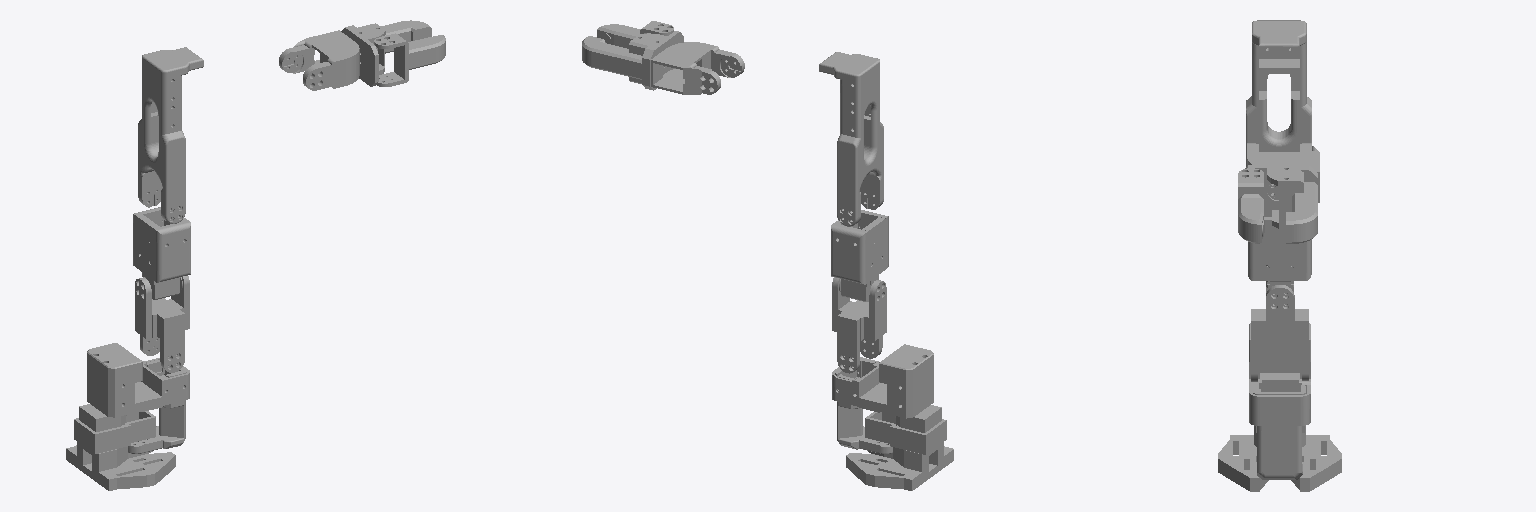
robot.urdf — arm_assembly:
<?xml version="1.0" ?>
<robot name="arm_assembly" xmlns:xacro="http://www.ros.org/wiki/xacro">



<link name="base_footprint"/>

<link name="base_link">
  <inertial>
    <origin xyz="0.0295624 0.00899979 0.0171489" rpy="0 0 0"/>
    <mass value="0.143802"/>
    <inertia ixx="0.000149425" iyy="0.000133638" izz="0.000153291" ixy="1.57982e-10" iyz="1.26386e-09" ixz="2.51299e-05"/>
  </inertial>
  <visual>
    <origin xyz="0 0 0" rpy="0 0 0"/>
    <geometry>
      <mesh filename="../meshes/base_link.stl" scale="0.001 0.001 0.001"/>
    </geometry>
    <material name="silver">
      <color rgba="0.700 0.700 0.700 1.000"/>
    </material>
  </visual>
  <collision>
    <origin xyz="0 0 0" rpy="0 0 0"/>
    <geometry>
      <mesh filename="../meshes/base_link.stl" scale="0.001 0.001 0.001"/>
    </geometry>
  </collision>
</link>

<link name="p02_new_base_neck">
  <inertial>
    <origin xyz="0.0321934 -0.000130404 0.0300194" rpy="0 0 0"/>
    <mass value="0.081677"/>
    <inertia ixx="5.67773e-05" iyy="6.24904e-05" izz="2.50404e-05" ixy="2.06956e-08" iyz="4.60517e-07" ixz="-5.13757e-06"/>
  </inertial>
  <visual>
    <origin xyz="0.048 -0.023 -0.0088" rpy="-1.5708 -4.43615e-29 -3.14159"/>
    <geometry>
      <mesh filename="../meshes/p02_new_base_neck.stl" scale="0.001 0.001 0.001"/>
    </geometry>
    <material name="silver">
      <color rgba="0.700 0.700 0.700 1.000"/>
    </material>
  </visual>
  <collision>
    <origin xyz="0.048 -0.023 -0.0088" rpy="-1.5708 -4.43615e-29 -3.14159"/>
    <geometry>
      <mesh filename="../meshes/p02_new_base_neck.stl" scale="0.001 0.001 0.001"/>
    </geometry>
  </collision>
</link>

<link name="servo_motor_initial_draft">
  <inertial>
    <origin xyz="0 0 0" rpy="0 0 0"/>
    <mass value="0.06"/>
    <inertia ixx="8.1e-06" iyy="1.41e-05" izz="1e-05" ixy="0" iyz="0" ixz="0"/>
  </inertial>
  <visual>
    <origin xyz="0 0 0" rpy="0 0 -1.5708"/>
    <geometry>
      <mesh filename="../meshes/servo_motor_initial_draft.stl" scale="0.001 0.001 0.001"/>
    </geometry>
    <material name="silver">
      <color rgba="0.700 0.700 0.700 1.000"/>
    </material>
  </visual>
  <collision>
    <origin xyz="0 0 0" rpy="0 0 -1.5708"/>
    <geometry>
      <mesh filename="../meshes/servo_motor_initial_draft.stl" scale="0.001 0.001 0.001"/>
    </geometry>
  </collision>
</link>

<link name="p10_new_elbow">
  <inertial>
    <origin xyz="0.00142923 -0.0185999 0.0808094" rpy="0 0 0"/>
    <mass value="0.153802"/>
    <inertia ixx="0.000411736" iyy="0.00037478" izz="6.56077e-05" ixy="-2.14855e-08" iyz="3.15964e-10" ixz="-1.7855e-05"/>
  </inertial>
  <visual>
    <origin xyz="-0.012 0.03 -0.012" rpy="1.5708 1.5708 0"/>
    <geometry>
      <mesh filename="../meshes/p10_new_elbow.stl" scale="0.001 0.001 0.001"/>
    </geometry>
    <material name="silver">
      <color rgba="0.700 0.700 0.700 1.000"/>
    </material>
  </visual>
  <collision>
    <origin xyz="-0.012 0.03 -0.012" rpy="1.5708 1.5708 0"/>
    <geometry>
      <mesh filename="../meshes/p10_new_elbow.stl" scale="0.001 0.001 0.001"/>
    </geometry>
  </collision>
</link>

<link name="servo_motor_initial_draft_2">
  <inertial>
    <origin xyz="0 0 0" rpy="0 0 0"/>
    <mass value="0.06"/>
    <inertia ixx="8.1e-06" iyy="1.41e-05" izz="1e-05" ixy="0" iyz="0" ixz="0"/>
  </inertial>
  <visual>
    <origin xyz="0 0 0" rpy="1.5708 1.38778e-17 -3.15544e-30"/>
    <geometry>
      <mesh filename="../meshes/servo_motor_initial_draft_2.stl" scale="0.001 0.001 0.001"/>
    </geometry>
    <material name="silver">
      <color rgba="0.700 0.700 0.700 1.000"/>
    </material>
  </visual>
  <collision>
    <origin xyz="0 0 0" rpy="1.5708 1.38778e-17 -3.15544e-30"/>
    <geometry>
      <mesh filename="../meshes/servo_motor_initial_draft_2.stl" scale="0.001 0.001 0.001"/>
    </geometry>
  </collision>
</link>

<link name="new_elbow_v1">
  <inertial>
    <origin xyz="0.0562011 -0.0187337 -0.000456186" rpy="0 0 0"/>
    <mass value="0.114345"/>
    <inertia ixx="4.90344e-05" iyy="0.000113108" izz="0.000151253" ixy="8.42044e-08" iyz="2.6383e-08" ixz="2.40227e-06"/>
  </inertial>
  <visual>
    <origin xyz="-0.012 -0.0672 -0.012" rpy="1.5708 -2.15106e-16 3.14159"/>
    <geometry>
      <mesh filename="../meshes/new_elbow_v1.stl" scale="0.001 0.001 0.001"/>
    </geometry>
    <material name="silver">
      <color rgba="0.700 0.700 0.700 1.000"/>
    </material>
  </visual>
  <collision>
    <origin xyz="-0.012 -0.0672 -0.012" rpy="1.5708 -2.15106e-16 3.14159"/>
    <geometry>
      <mesh filename="../meshes/new_elbow_v1.stl" scale="0.001 0.001 0.001"/>
    </geometry>
  </collision>
</link>

<link name="servo_motor_initial_draft_3">
  <inertial>
    <origin xyz="0 0 0" rpy="0 0 0"/>
    <mass value="0.06"/>
    <inertia ixx="8.1e-06" iyy="1.41e-05" izz="1e-05" ixy="0" iyz="0" ixz="0"/>
  </inertial>
  <visual>
    <origin xyz="0 0 0" rpy="-1.5708 -1.5708 0"/>
    <geometry>
      <mesh filename="../meshes/servo_motor_initial_draft_3.stl" scale="0.001 0.001 0.001"/>
    </geometry>
    <material name="silver">
      <color rgba="0.700 0.700 0.700 1.000"/>
    </material>
  </visual>
  <collision>
    <origin xyz="0 0 0" rpy="-1.5708 -1.5708 0"/>
    <geometry>
      <mesh filename="../meshes/servo_motor_initial_draft_3.stl" scale="0.001 0.001 0.001"/>
    </geometry>
  </collision>
</link>

<link name="p16_wrist_prototype">
  <inertial>
    <origin xyz="0.0298028 -0.020642 -4.98e-07" rpy="0 0 0"/>
    <mass value="0.0517943"/>
    <inertia ixx="2.70334e-05" iyy="2.13042e-05" izz="3.86155e-05" ixy="-7.78851e-08" iyz="0" ixz="0"/>
  </inertial>
  <visual>
    <origin xyz="-0.012 0.0155 -0.015" rpy="1.31839e-16 1.46349e-15 -1.5708"/>
    <geometry>
      <mesh filename="../meshes/p16_wrist_prototype.stl" scale="0.001 0.001 0.001"/>
    </geometry>
    <material name="silver">
      <color rgba="0.700 0.700 0.700 1.000"/>
    </material>
  </visual>
  <collision>
    <origin xyz="-0.012 0.0155 -0.015" rpy="1.31839e-16 1.46349e-15 -1.5708"/>
    <geometry>
      <mesh filename="../meshes/p16_wrist_prototype.stl" scale="0.001 0.001 0.001"/>
    </geometry>
  </collision>
</link>

<link name="servo_motor_initial_draft_4">
  <inertial>
    <origin xyz="0 0 0" rpy="0 0 0"/>
    <mass value="0.06"/>
    <inertia ixx="8.1e-06" iyy="1.41e-05" izz="1e-05" ixy="0" iyz="0" ixz="0"/>
  </inertial>
  <visual>
    <origin xyz="0 0 0" rpy="1.5708 1.5708 0"/>
    <geometry>
      <mesh filename="../meshes/servo_motor_initial_draft_4.stl" scale="0.001 0.001 0.001"/>
    </geometry>
    <material name="silver">
      <color rgba="0.700 0.700 0.700 1.000"/>
    </material>
  </visual>
  <collision>
    <origin xyz="0 0 0" rpy="1.5708 1.5708 0"/>
    <geometry>
      <mesh filename="../meshes/servo_motor_initial_draft_4.stl" scale="0.001 0.001 0.001"/>
    </geometry>
  </collision>
</link>

<link name="p17_end_effector">
  <inertial>
    <origin xyz="0.0352768 0.0155195 -0.000387812" rpy="0 0 0"/>
    <mass value="0.0827017"/>
    <inertia ixx="2.58877e-05" iyy="6.89744e-05" izz="7.52479e-05" ixy="-1.12203e-05" iyz="2.11696e-07" ixz="1.58772e-07"/>
  </inertial>
  <visual>
    <origin xyz="0.003 0.047 -0.023" rpy="1.5708 -3.1702e-15 1.5708"/>
    <geometry>
      <mesh filename="../meshes/p17_end_effector.stl" scale="0.001 0.001 0.001"/>
    </geometry>
    <material name="silver">
      <color rgba="0.700 0.700 0.700 1.000"/>
    </material>
  </visual>
  <collision>
    <origin xyz="0.003 0.047 -0.023" rpy="1.5708 -3.1702e-15 1.5708"/>
    <geometry>
      <mesh filename="../meshes/p17_end_effector.stl" scale="0.001 0.001 0.001"/>
    </geometry>
  </collision>
</link>

<link name="servo_motor_initial_draft_5">
  <inertial>
    <origin xyz="0 0 0" rpy="0 0 0"/>
    <mass value="0.06"/>
    <inertia ixx="8.1e-06" iyy="1.41e-05" izz="1e-05" ixy="0" iyz="0" ixz="0"/>
  </inertial>
  <visual>
    <origin xyz="0 0 0" rpy="-3.14159 -1.5708 0"/>
    <geometry>
      <mesh filename="../meshes/servo_motor_initial_draft_5.stl" scale="0.001 0.001 0.001"/>
    </geometry>
    <material name="silver">
      <color rgba="0.700 0.700 0.700 1.000"/>
    </material>
  </visual>
  <collision>
    <origin xyz="0 0 0" rpy="-3.14159 -1.5708 0"/>
    <geometry>
      <mesh filename="../meshes/servo_motor_initial_draft_5.stl" scale="0.001 0.001 0.001"/>
    </geometry>
  </collision>
</link>

<link name="p18_end_effector_thumb">
  <inertial>
    <origin xyz="0.0352701 0.000338848 -0.0185005" rpy="0 0 0"/>
    <mass value="0.0380563"/>
    <inertia ixx="5.54343e-06" iyy="1.81733e-05" izz="1.54666e-05" ixy="-3.95271e-07" iyz="-0" ixz="0"/>
  </inertial>
  <visual>
    <origin xyz="0.186 -0.011 0.0055" rpy="-1.5708 -3.81639e-16 2.86336e-16"/>
    <geometry>
      <mesh filename="../meshes/p18_end_effector_thumb.stl" scale="0.001 0.001 0.001"/>
    </geometry>
    <material name="silver">
      <color rgba="0.700 0.700 0.700 1.000"/>
    </material>
  </visual>
  <collision>
    <origin xyz="0.186 -0.011 0.0055" rpy="-1.5708 -3.81639e-16 2.86336e-16"/>
    <geometry>
      <mesh filename="../meshes/p18_end_effector_thumb.stl" scale="0.001 0.001 0.001"/>
    </geometry>
  </collision>
</link>

<link name="servo_motor_initial_draft_6">
  <inertial>
    <origin xyz="0 0 0" rpy="0 0 0"/>
    <mass value="0.06"/>
    <inertia ixx="8.1e-06" iyy="1.41e-05" izz="1e-05" ixy="0" iyz="0" ixz="0"/>
  </inertial>
  <visual>
    <origin xyz="0 0 0" rpy="-2.86489e-15 4.16334e-17 -3.14159"/>
    <geometry>
      <mesh filename="../meshes/servo_motor_initial_draft_6.stl" scale="0.001 0.001 0.001"/>
    </geometry>
    <material name="silver">
      <color rgba="0.700 0.700 0.700 1.000"/>
    </material>
  </visual>
  <collision>
    <origin xyz="0 0 0" rpy="-2.86489e-15 4.16334e-17 -3.14159"/>
    <geometry>
      <mesh filename="../meshes/servo_motor_initial_draft_6.stl" scale="0.001 0.001 0.001"/>
    </geometry>
  </collision>
</link>

<link name="servo_motor_initial_draft_7">
  <inertial>
    <origin xyz="0 0 0" rpy="0 0 0"/>
    <mass value="0.06"/>
    <inertia ixx="8.1e-06" iyy="1.41e-05" izz="1e-05" ixy="0" iyz="0" ixz="0"/>
  </inertial>
  <visual>
    <origin xyz="0 0 0" rpy="1.5708 -2.34172e-57 1.58377e-16"/>
    <geometry>
      <mesh filename="../meshes/servo_motor_initial_draft_7.stl" scale="0.001 0.001 0.001"/>
    </geometry>
    <material name="silver">
      <color rgba="0.700 0.700 0.700 1.000"/>
    </material>
  </visual>
  <collision>
    <origin xyz="0 0 0" rpy="1.5708 -2.34172e-57 1.58377e-16"/>
    <geometry>
      <mesh filename="../meshes/servo_motor_initial_draft_7.stl" scale="0.001 0.001 0.001"/>
    </geometry>
  </collision>
</link>

<link name="servo_motor_initial_draft_8">
  <inertial>
    <origin xyz="0.033 -0.0126 0.035" rpy="0 0 0"/>
    <mass value="0.06"/>
    <inertia ixx="8.1e-06" iyy="1.41e-05" izz="1e-05" ixy="0" iyz="0" ixz="0"/>
  </inertial>
  <visual>
    <origin xyz="0.033 -0.0126 0.035" rpy="-1.5708 1.22465e-16 1.5708"/>
    <geometry>
      <mesh filename="../meshes/servo_motor_initial_draft_8.stl" scale="0.001 0.001 0.001"/>
    </geometry>
    <material name="silver">
      <color rgba="0.700 0.700 0.700 1.000"/>
    </material>
  </visual>
  <collision>
    <origin xyz="0.033 -0.0126 0.035" rpy="-1.5708 1.22465e-16 1.5708"/>
    <geometry>
      <mesh filename="../meshes/servo_motor_initial_draft_8.stl" scale="0.001 0.001 0.001"/>
    </geometry>
  </collision>
</link>

<link name="p01_base_binder_strip">
  <inertial>
    <origin xyz="0.032037 -0.0172498 0.011" rpy="0 0 0"/>
    <mass value="0.0220997"/>
    <inertia ixx="6.21738e-06" iyy="1.51901e-05" izz="1.96248e-05" ixy="0" iyz="0" ixz="-0"/>
  </inertial>
  <visual>
    <origin xyz="0 0 0" rpy="2.77556e-16 2.58075e-31 -1.5708"/>
    <geometry>
      <mesh filename="../meshes/p01_base_binder_strip.stl" scale="0.001 0.001 0.001"/>
    </geometry>
    <material name="silver">
      <color rgba="0.700 0.700 0.700 1.000"/>
    </material>
  </visual>
  <collision>
    <origin xyz="0 0 0" rpy="2.77556e-16 2.58075e-31 -1.5708"/>
    <geometry>
      <mesh filename="../meshes/p01_base_binder_strip.stl" scale="0.001 0.001 0.001"/>
    </geometry>
  </collision>
</link>

<link name="servo_motor_initial_draft_9">
  <inertial>
    <origin xyz="0 0 0" rpy="0 0 0"/>
    <mass value="0.06"/>
    <inertia ixx="8.1e-06" iyy="1.41e-05" izz="1e-05" ixy="0" iyz="0" ixz="0"/>
  </inertial>
  <visual>
    <origin xyz="0 0 0" rpy="-1.5708 -1.5708 0"/>
    <geometry>
      <mesh filename="../meshes/servo_motor_initial_draft_9.stl" scale="0.001 0.001 0.001"/>
    </geometry>
    <material name="silver">
      <color rgba="0.700 0.700 0.700 1.000"/>
    </material>
  </visual>
  <collision>
    <origin xyz="0 0 0" rpy="-1.5708 -1.5708 0"/>
    <geometry>
      <mesh filename="../meshes/servo_motor_initial_draft_9.stl" scale="0.001 0.001 0.001"/>
    </geometry>
  </collision>
</link>

<link name="cradle">
  <inertial>
    <origin xyz="-0.0307609 0.0320269 0.0150273" rpy="0 0 0"/>
    <mass value="0.0909176"/>
    <inertia ixx="4.04077e-05" iyy="8.26561e-05" izz="9.50963e-05" ixy="3.25759e-07" iyz="3.23863e-08" ixz="9.1579e-06"/>
  </inertial>
  <visual>
    <origin xyz="0 0 0" rpy="-1.6491e-59 7.00649e-45 -1.5708"/>
    <geometry>
      <mesh filename="../meshes/cradle.stl" scale="0.001 0.001 0.001"/>
    </geometry>
    <material name="silver">
      <color rgba="0.700 0.700 0.700 1.000"/>
    </material>
  </visual>
  <collision>
    <origin xyz="0 0 0" rpy="-1.6491e-59 7.00649e-45 -1.5708"/>
    <geometry>
      <mesh filename="../meshes/cradle.stl" scale="0.001 0.001 0.001"/>
    </geometry>
  </collision>
</link>

<link name="roof">
  <inertial>
    <origin xyz="-0.0417551 0.04067 -0.0089018" rpy="0 0 0"/>
    <mass value="0.0389803"/>
    <inertia ixx="9.1075e-06" iyy="5.41878e-06" izz="1.19861e-05" ixy="-0" iyz="0" ixz="5.07122e-07"/>
  </inertial>
  <visual>
    <origin xyz="0 0 0" rpy="-3.14159 -7.00649e-45 1.5708"/>
    <geometry>
      <mesh filename="../meshes/roof.stl" scale="0.001 0.001 0.001"/>
    </geometry>
    <material name="silver">
      <color rgba="0.700 0.700 0.700 1.000"/>
    </material>
  </visual>
  <collision>
    <origin xyz="0 0 0" rpy="-3.14159 -7.00649e-45 1.5708"/>
    <geometry>
      <mesh filename="../meshes/roof.stl" scale="0.001 0.001 0.001"/>
    </geometry>
  </collision>
</link>

<link name="p09_prototype_u_bridge">
  <inertial>
    <origin xyz="-0.0144979 0.0123775 0.0040405" rpy="0 0 0"/>
    <mass value="0.112544"/>
    <inertia ixx="5.93336e-05" iyy="4.23252e-05" izz="5.08833e-05" ixy="0" iyz="-7.72532e-08" ixz="-8.21506e-09"/>
  </inertial>
  <visual>
    <origin xyz="0 0 0" rpy="-1.5708 1.22465e-16 1.5708"/>
    <geometry>
      <mesh filename="../meshes/p09_prototype_u_bridge.stl" scale="0.001 0.001 0.001"/>
    </geometry>
    <material name="silver">
      <color rgba="0.700 0.700 0.700 1.000"/>
    </material>
  </visual>
  <collision>
    <origin xyz="0 0 0" rpy="-1.5708 1.22465e-16 1.5708"/>
    <geometry>
      <mesh filename="../meshes/p09_prototype_u_bridge.stl" scale="0.001 0.001 0.001"/>
    </geometry>
  </collision>
</link>

<link name="u_joint_box_servo_motor_initial_draft">
  <inertial>
    <origin xyz="0 0 0" rpy="0 0 0"/>
    <mass value="0.06"/>
    <inertia ixx="8.1e-06" iyy="1.41e-05" izz="1e-05" ixy="0" iyz="0" ixz="0"/>
  </inertial>
  <visual>
    <origin xyz="0 0 0" rpy="-1.5708 1.22465e-16 1.5708"/>
    <geometry>
      <box size="0.01 0.01 0.01"/>
    </geometry>
    <material name="silver">
      <color rgba="0.700 0.700 0.700 1.000"/>
    </material>
  </visual>
  <collision>
    <origin xyz="0 0 0" rpy="-1.5708 1.22465e-16 1.5708"/>
    <geometry>
      <box size="0.01 0.01 0.01"/>
    </geometry>
  </collision>
</link>

<link name="uj_yoke_in">
  <inertial>
    <origin xyz="0.000106363 -0.0191597 0.0226114" rpy="0 0 0"/>
    <mass value="0.0352571"/>
    <inertia ixx="1.43398e-05" iyy="9.14227e-06" izz="1.34222e-05" ixy="-2.08899e-09" iyz="-2.71263e-07" ixz="-2.75756e-08"/>
  </inertial>
  <visual>
    <origin xyz="0.026001 0.0064 0" rpy="1.5708 -5.25487e-46 0"/>
    <geometry>
      <mesh filename="../meshes/uj_yoke_in.stl" scale="0.001 0.001 0.001"/>
    </geometry>
    <material name="silver">
      <color rgba="0.700 0.700 0.700 1.000"/>
    </material>
  </visual>
  <collision>
    <origin xyz="0.026001 0.0064 0" rpy="1.5708 -5.25487e-46 0"/>
    <geometry>
      <mesh filename="../meshes/uj_yoke_in.stl" scale="0.001 0.001 0.001"/>
    </geometry>
  </collision>
</link>

<link name="uj_yoke_out">
  <inertial>
    <origin xyz="0.0190619 -0.000119863 -0.0262625" rpy="0 0 0"/>
    <mass value="0.0467085"/>
    <inertia ixx="1.28453e-05" iyy="1.80441e-05" izz="1.69499e-05" ixy="-2.58885e-09" iyz="-3.49243e-08" ixz="-3.22314e-07"/>
  </inertial>
  <visual>
    <origin xyz="0.0446 0.025 -0.075" rpy="1.5708 -5.25487e-46 0"/>
    <geometry>
      <mesh filename="../meshes/uj_yoke_out.stl" scale="0.001 0.001 0.001"/>
    </geometry>
    <material name="silver">
      <color rgba="0.700 0.700 0.700 1.000"/>
    </material>
  </visual>
  <collision>
    <origin xyz="0.0446 0.025 -0.075" rpy="1.5708 -5.25487e-46 0"/>
    <geometry>
      <mesh filename="../meshes/uj_yoke_out.stl" scale="0.001 0.001 0.001"/>
    </geometry>
  </collision>
</link>

<joint name="base_footprint_to_base_link" type="fixed">
  <origin xyz="0 0 0" rpy="0 0 0"/>
  <parent link="base_footprint"/>
  <child link="base_link"/>
</joint>

<joint name="revolute_5" type="revolute">
  <origin xyz="0.035 -0.0126 -0.004" rpy="0 0 0"/>
  <parent link="servo_motor_initial_draft"/>
  <child link="p02_new_base_neck"/>
  <axis xyz="0 0 -1"/>
  <limit upper="1.91986" lower="-1.91986" effort="100" velocity="100"/>
</joint>

<joint name="revolute_11" type="revolute">
  <origin xyz="0.012599 0.004 0.035" rpy="0 0 0"/>
  <parent link="servo_motor_initial_draft_2"/>
  <child link="p10_new_elbow"/>
  <axis xyz="0 1 0"/>
  <limit upper="1.5708" lower="-1.5708" effort="100" velocity="100"/>
</joint>

<joint name="revolute_12" type="revolute">
  <origin xyz="0.035 0.033 0.0126" rpy="0 0 0"/>
  <parent link="servo_motor_initial_draft_3"/>
  <child link="new_elbow_v1"/>
  <axis xyz="0 1 0"/>
  <limit upper="1.5708" lower="-0.523599" effort="100" velocity="100"/>
</joint>

<joint name="revolute_13" type="revolute">
  <origin xyz="0.035 0.004 -0.0126" rpy="0 0 0"/>
  <parent link="servo_motor_initial_draft_4"/>
  <child link="p16_wrist_prototype"/>
  <axis xyz="0 1 0"/>
  <limit upper="1.5708" lower="-1.5708" effort="100" velocity="100"/>
</joint>

<joint name="revolute_15" type="revolute">
  <origin xyz="0.033 -0.035 0.0126" rpy="0 0 0"/>
  <parent link="servo_motor_initial_draft_5"/>
  <child link="p17_end_effector"/>
  <axis xyz="1 0 0"/>
  <limit upper="1.5708" lower="-3.14159" effort="100" velocity="100"/>
</joint>

<joint name="revolute_16" type="revolute">
  <origin xyz="-0.0126 -0.035 0.033" rpy="0 0 0"/>
  <parent link="servo_motor_initial_draft_6"/>
  <child link="p18_end_effector_thumb"/>
  <axis xyz="0 0 1"/>
  <limit upper="0.296706" lower="-1.74533" effort="100" velocity="100"/>
</joint>

<joint name="revolute_17" type="revolute">
  <origin xyz="0.012599 0.004 0.035001" rpy="0 0 0"/>
  <parent link="servo_motor_initial_draft_7"/>
  <child link="uj_yoke_in"/>
  <axis xyz="0 1 0"/>
  <limit upper="1.5708" lower="-0.610865" effort="100" velocity="100"/>
</joint>

<joint name="revolute_18" type="revolute">
  <origin xyz="0 0 0" rpy="0 0 0"/>
  <parent link="uj_yoke_out"/>
  <child link="servo_motor_initial_draft_8"/>
  <axis xyz="-1 0 0"/>
  <limit upper="1.5708" lower="-1.5708" effort="100" velocity="100"/>
</joint>

<joint name="uj_yoke_in_to_uj_yoke_out" type="fixed">
  <origin xyz="-0.018599 -0.0186 0.075" rpy="0 0 0"/>
  <parent link="uj_yoke_in"/>
  <child link="uj_yoke_out"/>
</joint>

<joint name="p01_base_binder_strip_fixed" type="fixed">
  <origin xyz="0.000309 0.02652 0.03" rpy="0 0 0"/>
  <parent link="base_link"/>
  <child link="p01_base_binder_strip"/>
</joint>

<joint name="servo_motor_initial_draft_9_fixed" type="fixed">
  <origin xyz="-0.030879 -0.01417 0.0554" rpy="0 0 0"/>
  <parent link="p02_new_base_neck"/>
  <child link="servo_motor_initial_draft_9"/>
</joint>

<joint name="servo_motor_initial_draft_7_fixed" type="fixed">
  <origin xyz="0.0175 0.0151 0.056572" rpy="0 0 0"/>
  <parent link="p02_new_base_neck"/>
  <child link="servo_motor_initial_draft_7"/>
</joint>

<joint name="cradle_fixed" type="fixed">
  <origin xyz="0.0183 -0.031793 0.0462" rpy="0 0 0"/>
  <parent link="p02_new_base_neck"/>
  <child link="cradle"/>
</joint>

<joint name="roof_fixed" type="fixed">
  <origin xyz="0.0183 -0.04034 0.1012" rpy="0 0 0"/>
  <parent link="p02_new_base_neck"/>
  <child link="roof"/>
</joint>

<joint name="p09_prototype_u_bridge_fixed" type="fixed">
  <origin xyz="0.03305 -0.0128 0.041122" rpy="0 0 0"/>
  <parent link="servo_motor_initial_draft_8"/>
  <child link="p09_prototype_u_bridge"/>
</joint>

<joint name="servo_motor_initial_draft_2_fixed" type="fixed">
  <origin xyz="0.0055 0.0137 0.055395" rpy="0 0 0"/>
  <parent link="servo_motor_initial_draft_8"/>
  <child link="servo_motor_initial_draft_2"/>
</joint>

<joint name="u_joint_box_servo_motor_initial_draft_fixed" type="fixed">
  <origin xyz="0.03305 -0.0128 0.041122" rpy="0 0 0"/>
  <parent link="servo_motor_initial_draft_8"/>
  <child link="u_joint_box_servo_motor_initial_draft"/>
</joint>

<joint name="servo_motor_initial_draft_4_fixed" type="fixed">
  <origin xyz="0.099873 -0.00325 0.01755" rpy="0 0 0"/>
  <parent link="new_elbow_v1"/>
  <child link="servo_motor_initial_draft_4"/>
</joint>

<joint name="servo_motor_initial_draft_6_fixed" type="fixed">
  <origin xyz="0.0337 0.011728 -0.0149" rpy="0 0 0"/>
  <parent link="p17_end_effector"/>
  <child link="servo_motor_initial_draft_6"/>
</joint>

<joint name="servo_motor_initial_draft_fixed" type="fixed">
  <origin xyz="0.021173 0.02125 0.026" rpy="0 0 0"/>
  <parent link="base_link"/>
  <child link="servo_motor_initial_draft"/>
</joint>

<joint name="servo_motor_initial_draft_3_fixed" type="fixed">
  <origin xyz="-0.006727 -0.03285 0.0925" rpy="0 0 0"/>
  <parent link="p10_new_elbow"/>
  <child link="servo_motor_initial_draft_3"/>
</joint>

<joint name="servo_motor_initial_draft_5_fixed" type="fixed">
  <origin xyz="0.02765 0.0148 -0.013" rpy="0 0 0"/>
  <parent link="p16_wrist_prototype"/>
  <child link="servo_motor_initial_draft_5"/>
</joint>

</robot>

--- Facts derived from the render (not from the file) ---
The picture shows the robot from 3 angles, left to right: view 1: azimuth 30°, elevation 25°; view 2: azimuth 150°, elevation 25°; view 3: azimuth 270°, elevation 25°; orthographic projection.
Robot: arm_assembly — 24 links, 23 joints (8 revolute, 15 fixed); root link base_footprint; default pose: every joint at zero.
Visible links, largest first — view 1: p10_new_elbow, base_link, cradle, p09_prototype_u_bridge, p16_wrist_prototype, p17_end_effector, p18_end_effector_thumb, uj_yoke_out, p01_base_binder_strip, p02_new_base_neck, uj_yoke_in, roof (+1 smaller); view 2: p10_new_elbow, base_link, p16_wrist_prototype, cradle, p09_prototype_u_bridge, p17_end_effector, uj_yoke_out, p01_base_binder_strip, p02_new_base_neck, uj_yoke_in, roof, p18_end_effector_thumb (+1 smaller); view 3: p10_new_elbow, base_link, p17_end_effector, cradle, p09_prototype_u_bridge, p02_new_base_neck, uj_yoke_out, p18_end_effector_thumb, p16_wrist_prototype, uj_yoke_in, roof.
Link boxes in pixels (x1,y1,x2,y2): p10_new_elbow: (138, 47, 203, 223); base_link: (66, 404, 175, 490); cradle: (87, 358, 189, 417); p09_prototype_u_bridge: (133, 207, 190, 282); p16_wrist_prototype: (279, 30, 359, 90); p17_end_effector: (341, 20, 431, 86); p18_end_effector_thumb: (374, 33, 445, 86); uj_yoke_out: (135, 276, 189, 331); p01_base_binder_strip: (74, 411, 155, 453); p02_new_base_neck: (128, 360, 186, 453); uj_yoke_in: (135, 320, 189, 372); roof: (87, 343, 142, 382); p10_new_elbow: (819, 52, 883, 226); base_link: (846, 405, 953, 490); p16_wrist_prototype: (651, 42, 744, 94); cradle: (832, 357, 933, 418); p09_prototype_u_bridge: (831, 210, 888, 284); p17_end_effector: (582, 31, 683, 90); uj_yoke_out: (832, 277, 886, 333); p01_base_binder_strip: (865, 412, 946, 454); p02_new_base_neck: (835, 358, 892, 453); uj_yoke_in: (832, 322, 886, 373); roof: (879, 344, 933, 383); p18_end_effector_thumb: (597, 21, 673, 48); p10_new_elbow: (1246, 20, 1311, 166); base_link: (1218, 426, 1341, 491); p17_end_effector: (1245, 165, 1317, 243); cradle: (1249, 361, 1310, 425); p09_prototype_u_bridge: (1248, 215, 1311, 280); p02_new_base_neck: (1253, 382, 1305, 479); uj_yoke_out: (1251, 285, 1308, 342); p18_end_effector_thumb: (1238, 168, 1264, 243); p16_wrist_prototype: (1247, 143, 1319, 202); uj_yoke_in: (1251, 337, 1308, 381); roof: (1249, 323, 1310, 362).
Bounding box of the posed robot: 0.4073 × 0.106 × 0.44 m (x, y, z).
Meshes: 22 distinct files referenced, 13 mesh visuals loaded (13 binary STL); not drawn: 9 (reference not matched to a file when rendering).
